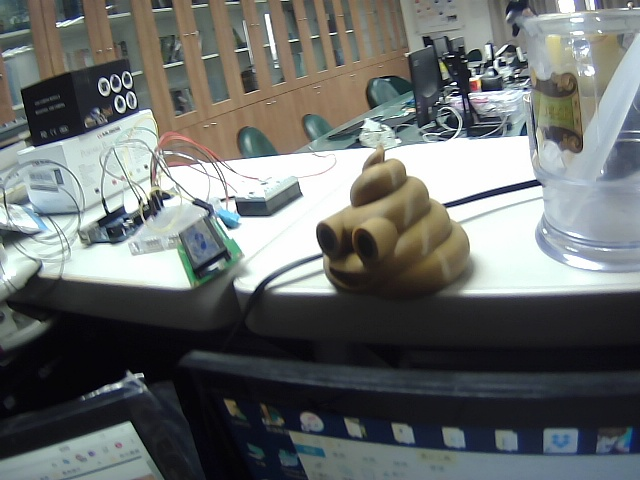shit: (314, 143, 475, 305)
